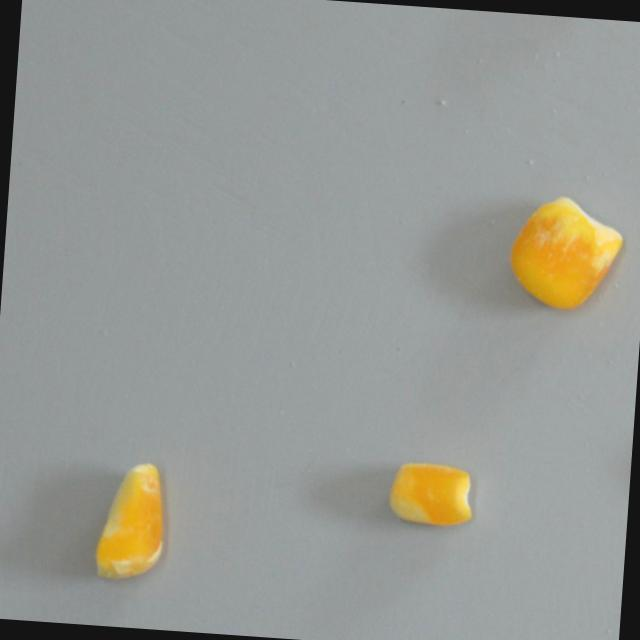estandar: (383, 458, 477, 528)
pelicula: (503, 191, 626, 313), (90, 457, 169, 585)
